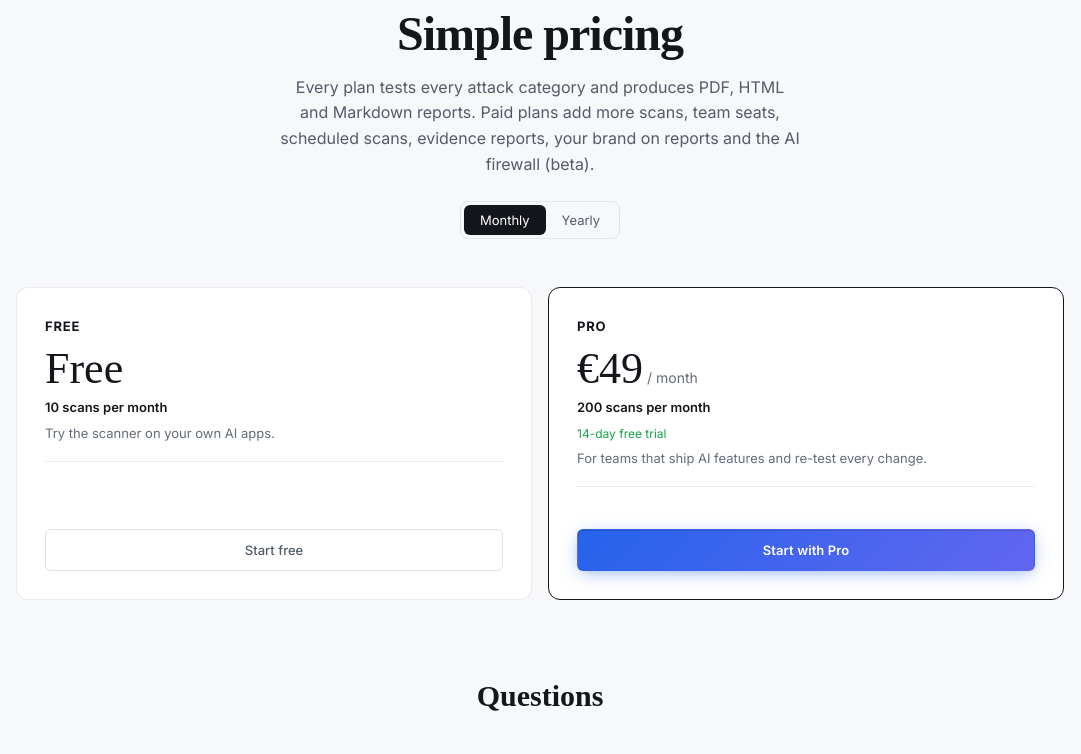
Test: Pricing offers a yearly switch when yearly prices exist
Expected: the text "€49" is shown, [577,347,643,391]
Expected: the text "14-day free trial" is shown, [577,426,666,441]
Click the button "Yearly": (581, 220) [546,205,616,235]
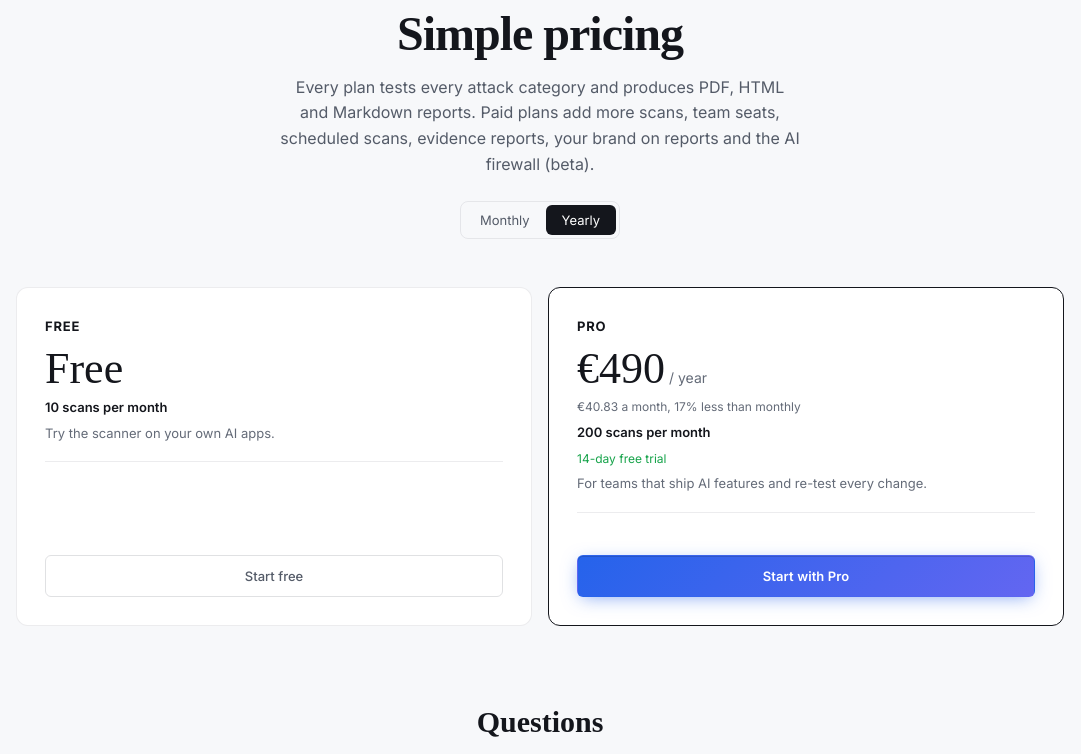
Now the text "€490" is shown, box [577,347,665,391]
Now the text "€40.83 a month, 17% less than monthly" is shown, box [577,399,801,414]
